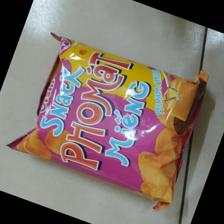Oishi_phomat: (5, 29, 211, 212)
